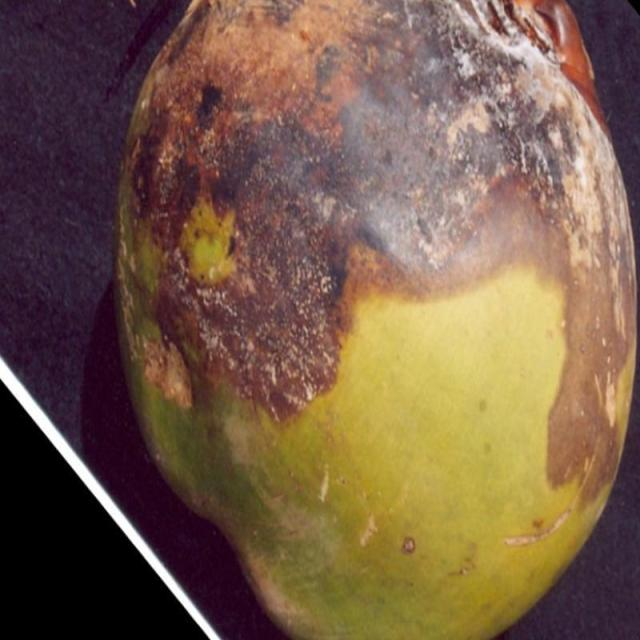damaged: (116, 0, 634, 639)
